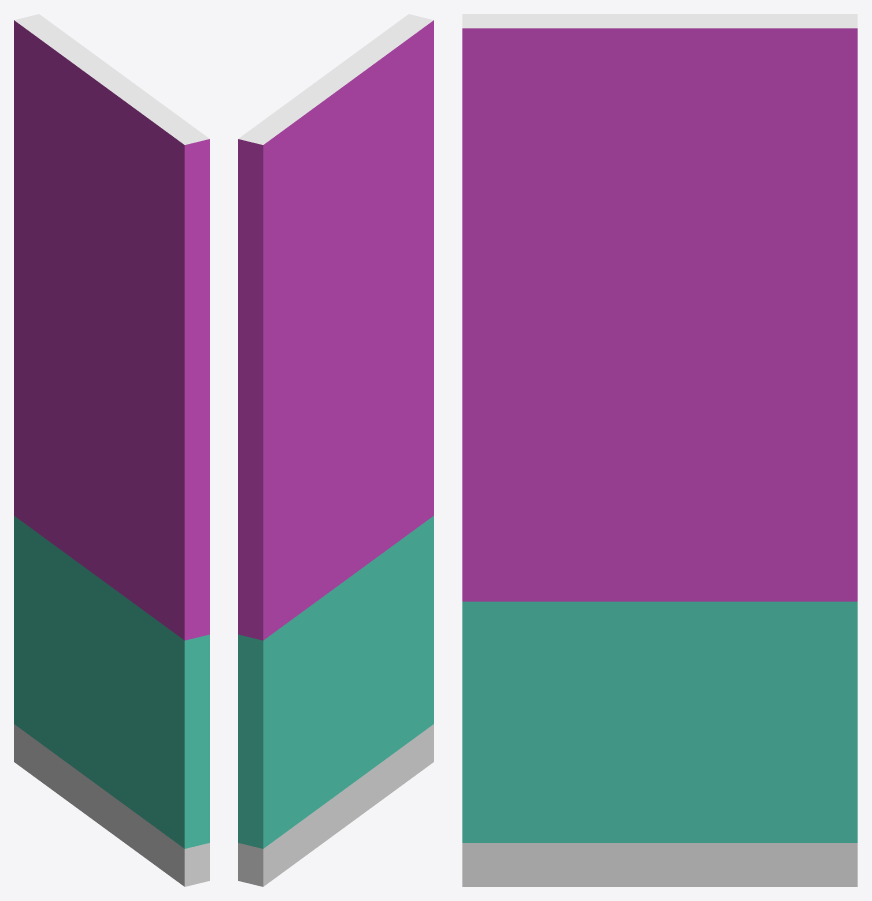
The model's file is wall.fbx.
3 views of the same model, side by side, from view 1: azimuth 30°, elevation 25°; view 2: azimuth 150°, elevation 25°; view 3: azimuth 270°, elevation 25° (orthographic). The views are drawn at different scales.
Visible parts, largest first — view 1: Cube; view 2: Cube; view 3: Cube.
Part boxes in pixels (x1,y1,x2,y2): Cube: (14,14,209,886); Cube: (238,14,433,886); Cube: (462,14,857,886).
Bounding box in the file's own units: 17.04 × 479 × 200.
